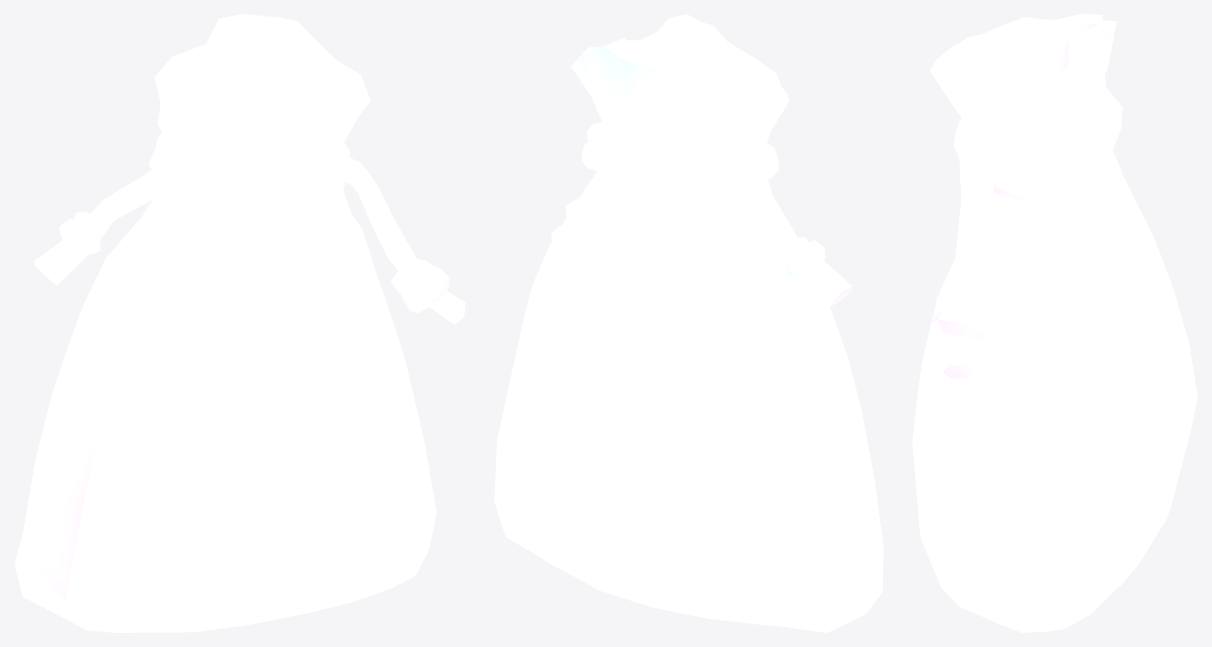
3 renders of one model, left to right at view 1: azimuth 30°, elevation 25°; view 2: azimuth 150°, elevation 25°; view 3: azimuth 270°, elevation 25°, orthographic.
Visible parts, largest first — view 1: SM_Sedge_01_LOD0; view 2: SM_Sedge_01_LOD0; view 3: SM_Sedge_01_LOD0.
Boxes of the visible parts, x1,y1,x2,y2 form: SM_Sedge_01_LOD0: (14, 14, 465, 632); SM_Sedge_01_LOD0: (494, 14, 883, 632); SM_Sedge_01_LOD0: (912, 14, 1197, 632).
Bounding box in the file's own units: 0.1477 × 0.2052 × 0.0948.
